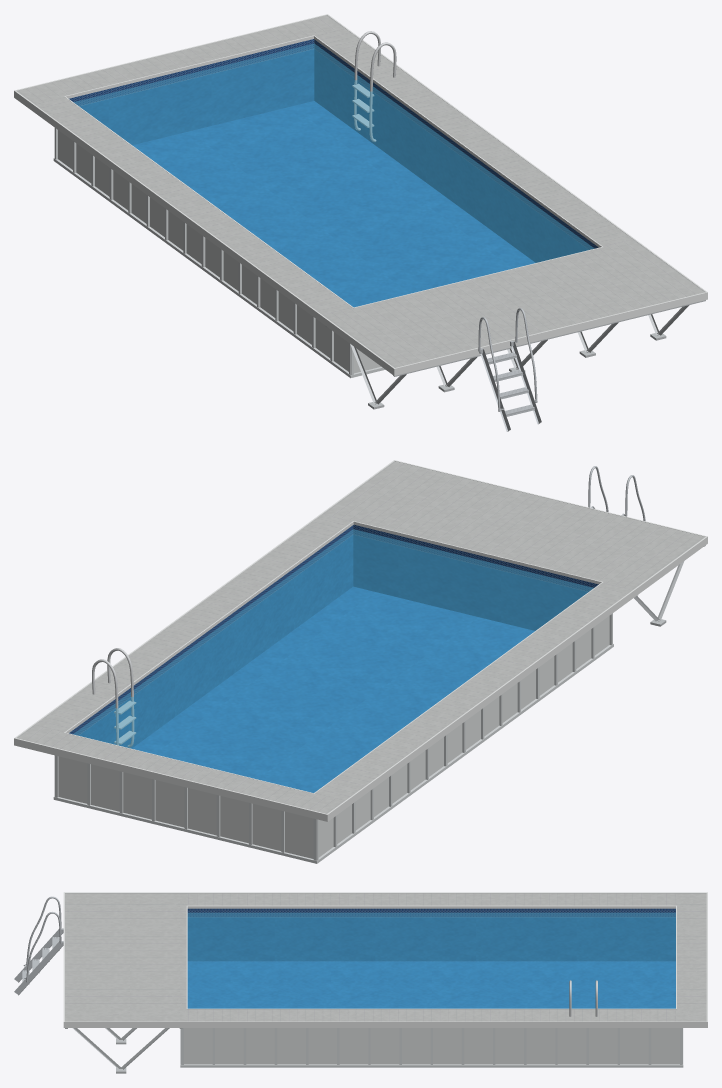
The model's file is kayak-pool-16x32-white-end-ag-nofence.20fcebab74.glb.
3 views of the same model, one above another, from view 1: azimuth 30°, elevation 25°; view 2: azimuth 150°, elevation 25°; view 3: azimuth 270°, elevation 25° (orthographic). The views are drawn at different scales.
Visible parts, largest first — view 1: water, deck, liner_floor, liner_wall, fascia, wall, upright, stud, ladder, steel; view 2: water, deck, liner_floor, liner_wall, wall, fascia, upright, steel; view 3: water, deck, liner_wall, liner_floor, wall, fascia, upright, ladder, stud.
Part boxes in pixels (x1,y1,x2,y2): water: (74, 43, 593, 307); deck: (17, 15, 705, 367); liner_floor: (133, 101, 535, 307); liner_wall: (69, 39, 598, 262); fascia: (14, 14, 707, 375); wall: (58, 130, 380, 373); upright: (53, 128, 385, 378); stud: (325, 300, 705, 409); ladder: (478, 308, 541, 431); steel: (352, 31, 396, 141); water: (73, 529, 593, 792); deck: (16, 461, 704, 813); liner_floor: (132, 586, 534, 792); liner_wall: (69, 524, 598, 748); wall: (58, 616, 609, 858); fascia: (14, 460, 707, 821); upright: (53, 613, 613, 863); steel: (92, 648, 136, 747); water: (187, 912, 675, 1008); deck: (65, 893, 706, 1021); liner_wall: (187, 908, 675, 961); liner_floor: (187, 961, 675, 1008); wall: (184, 1028, 679, 1064); fascia: (63, 892, 707, 1027); upright: (180, 1028, 683, 1067); ladder: (14, 896, 63, 995); stud: (65, 1028, 182, 1073).
Size of the model in its own units: 6.1 by 1.9 by 13.79.
Materials: 10 (3 with a texture image).
